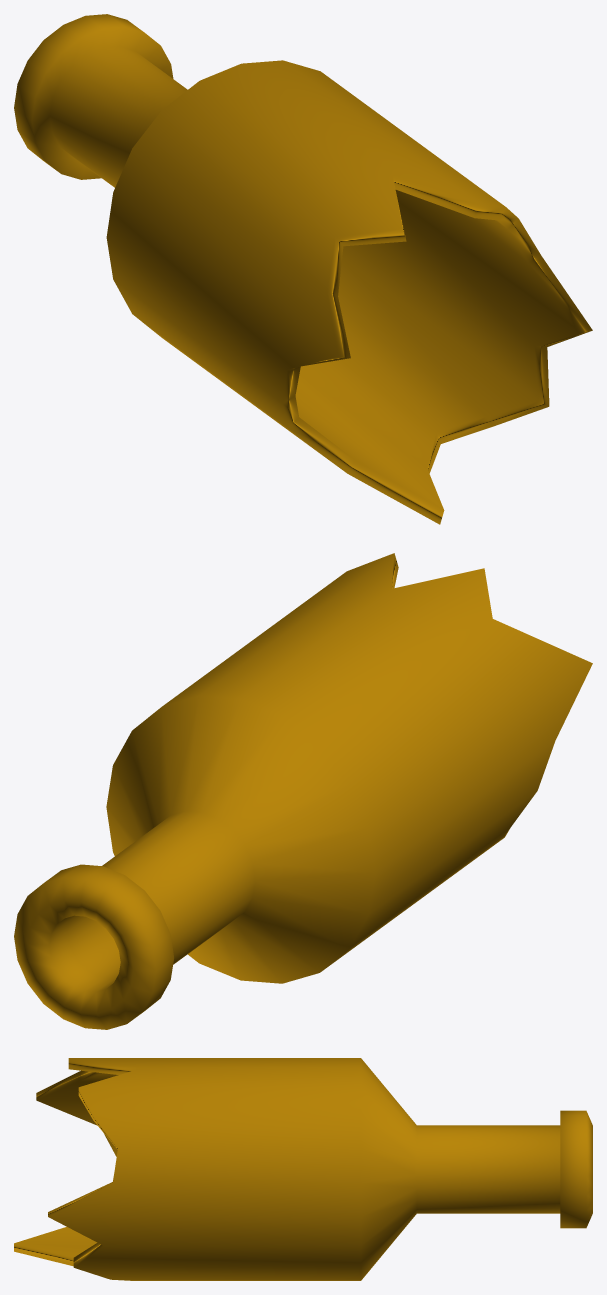
Rendered from Bottle.fbx.
The picture shows the model from 3 angles, top to bottom: view 1: azimuth 30°, elevation 25°; view 2: azimuth 150°, elevation 25°; view 3: azimuth 270°, elevation 25°; orthographic projection. The views are drawn at different scales.
Parts seen in each view (by area): view 1: pPipe1; view 2: pPipe1; view 3: pPipe1.
Boxes of the visible parts, bbox=[...] form: pPipe1: bbox=[14, 14, 592, 524]; pPipe1: bbox=[14, 553, 592, 1029]; pPipe1: bbox=[14, 1058, 592, 1280].
Size of the model in its own units: 0.2253 by 0.2253 by 0.5808.
